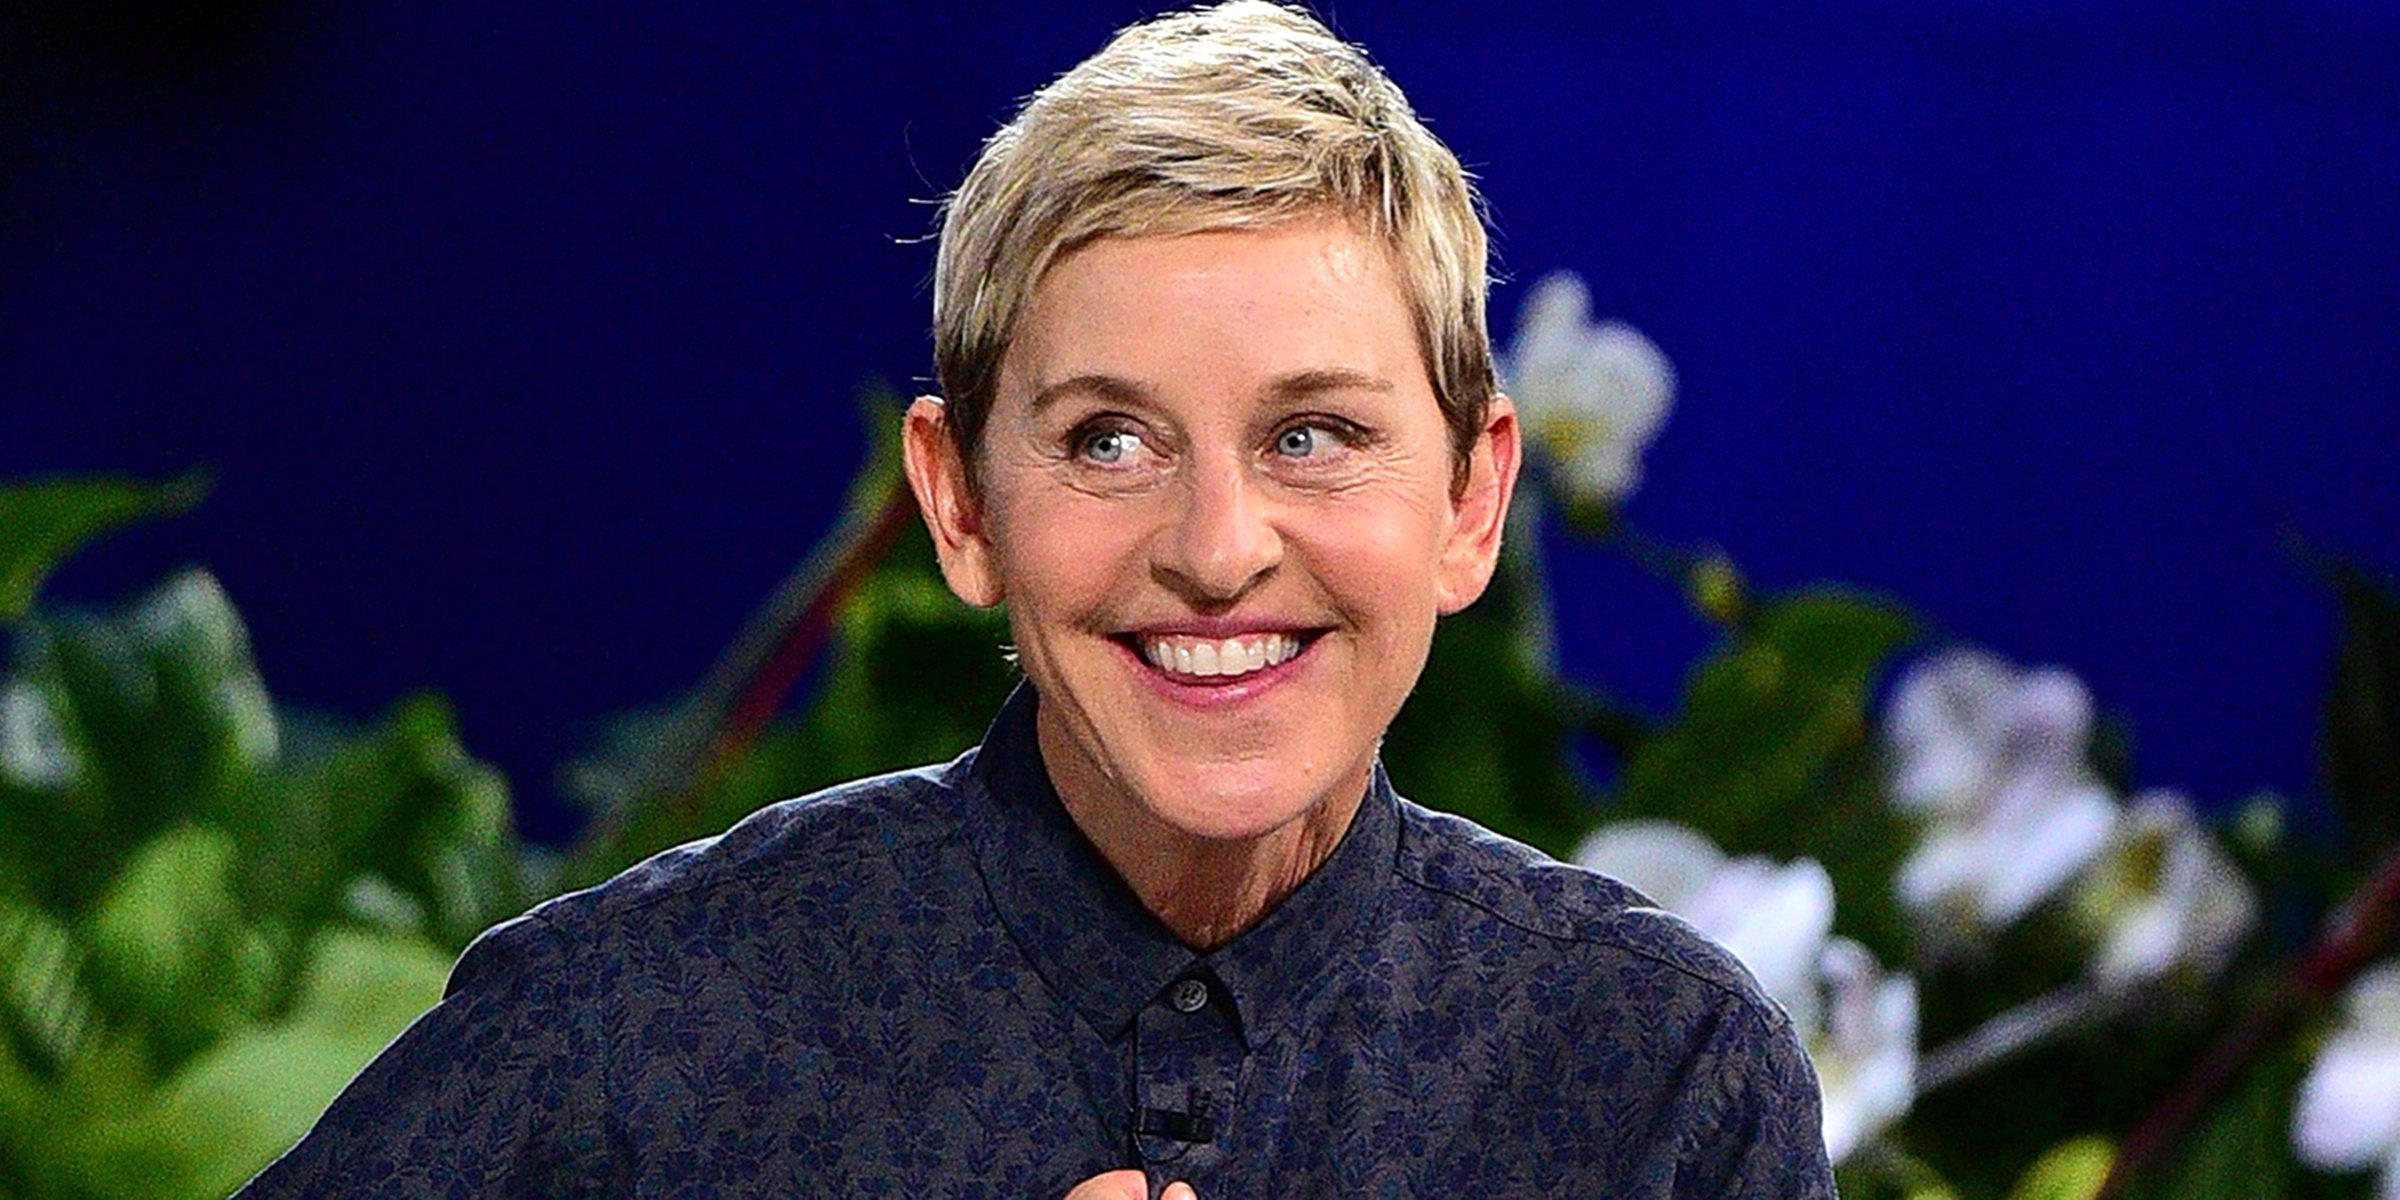noMask: (835, 31, 1548, 835)
